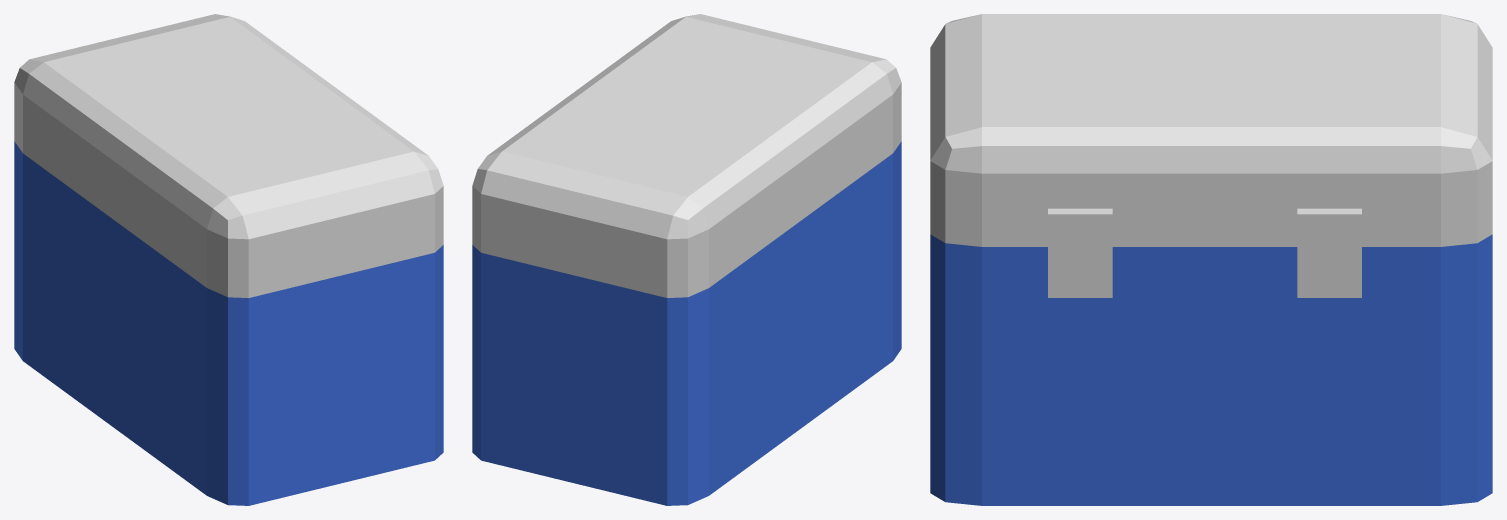
File: boxi.fbx
3 renders of one model, left to right at view 1: azimuth 30°, elevation 25°; view 2: azimuth 150°, elevation 25°; view 3: azimuth 270°, elevation 25°, orthographic. The views are drawn at different scales.
Visible parts, largest first — view 1: 立方体.001; view 2: 立方体.001; view 3: 立方体.001.
Boxes of the visible parts, x1,y1,x2,y2 form: 立方体.001: (14, 14, 443, 505); 立方体.001: (472, 14, 901, 505); 立方体.001: (930, 14, 1492, 505).
Size of the model in its own units: 362 by 428 by 596.
